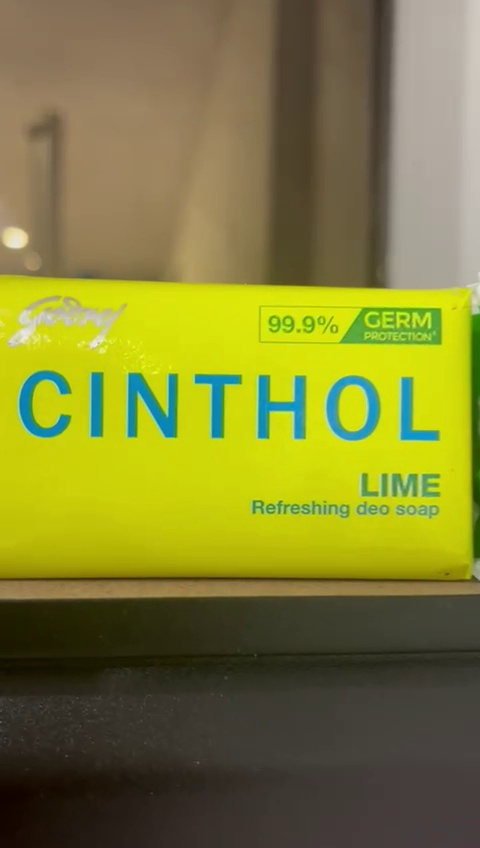Cinthol: (2, 270, 480, 581)
